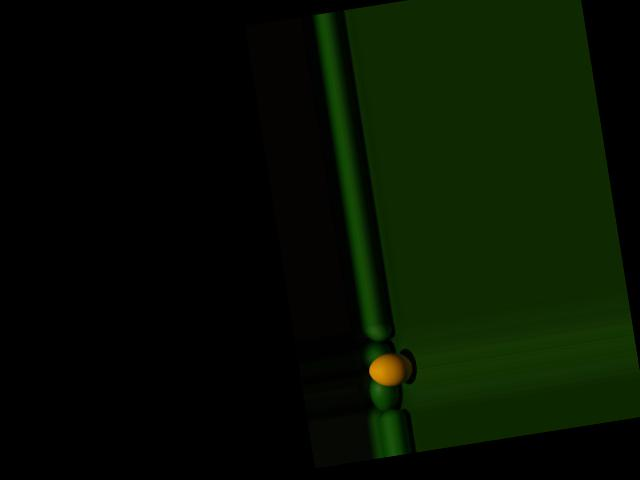egg: (367, 350, 415, 389)
